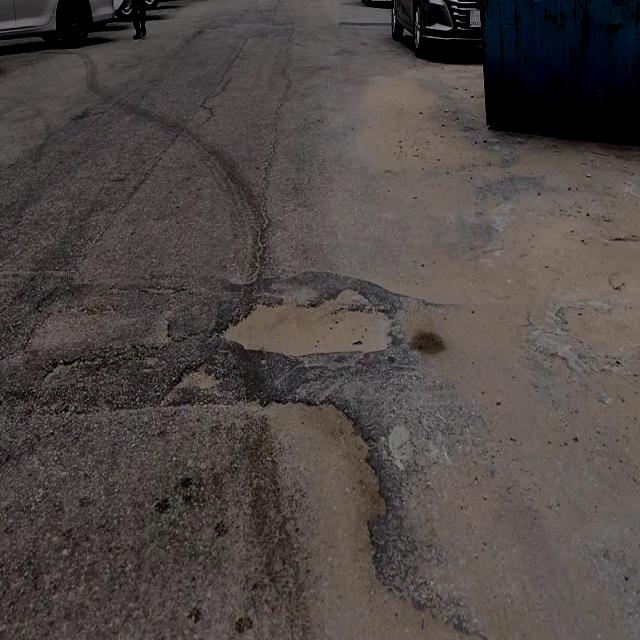Potholes: (223, 286, 390, 355)
